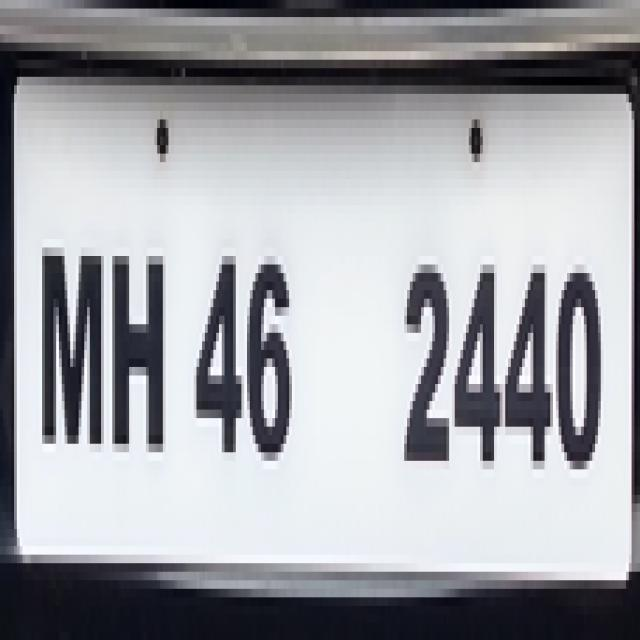0: (552, 262, 612, 472)
4: (189, 223, 245, 470), (501, 258, 558, 476), (452, 256, 504, 464)
6: (242, 255, 299, 466)
H: (106, 233, 172, 474)
M: (32, 212, 109, 469)
